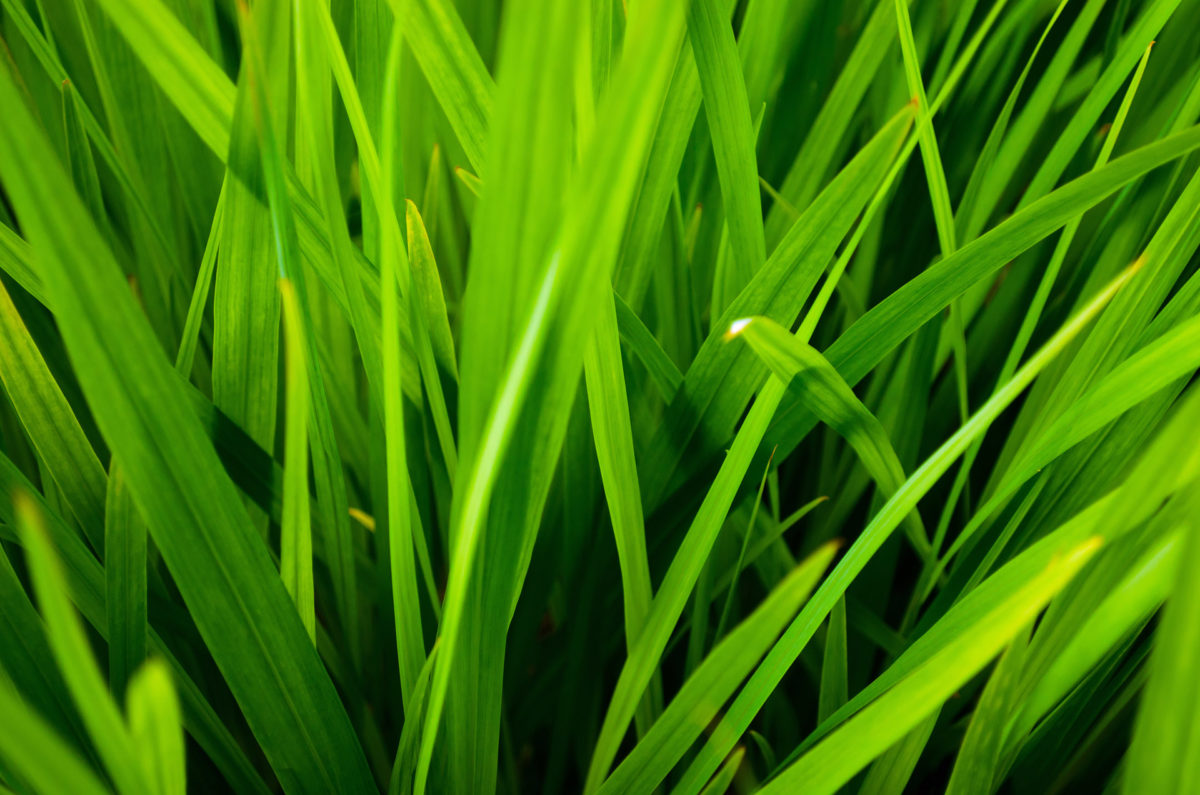grass: (3, 2, 1200, 795)
